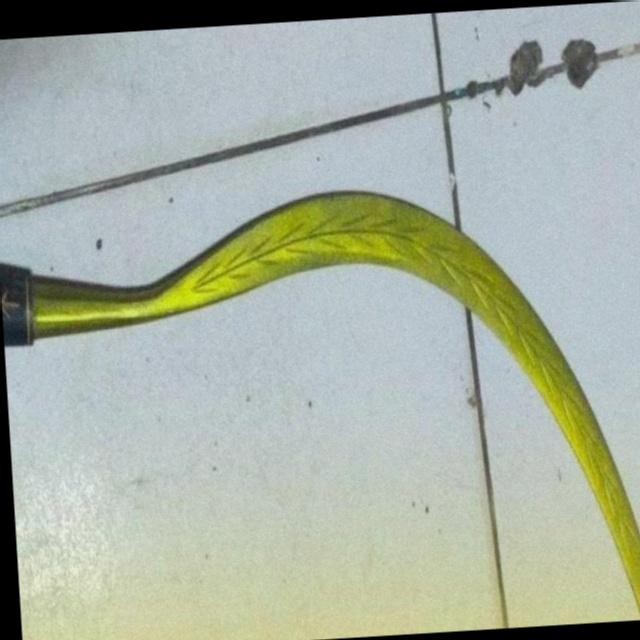Sharp-Object: (0, 169, 640, 640)
